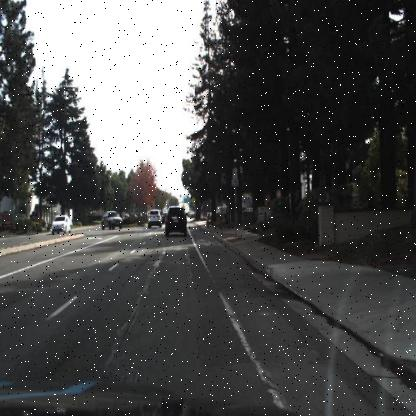car: (164, 204, 188, 238), (99, 208, 124, 229), (49, 214, 70, 234), (146, 207, 163, 230)
